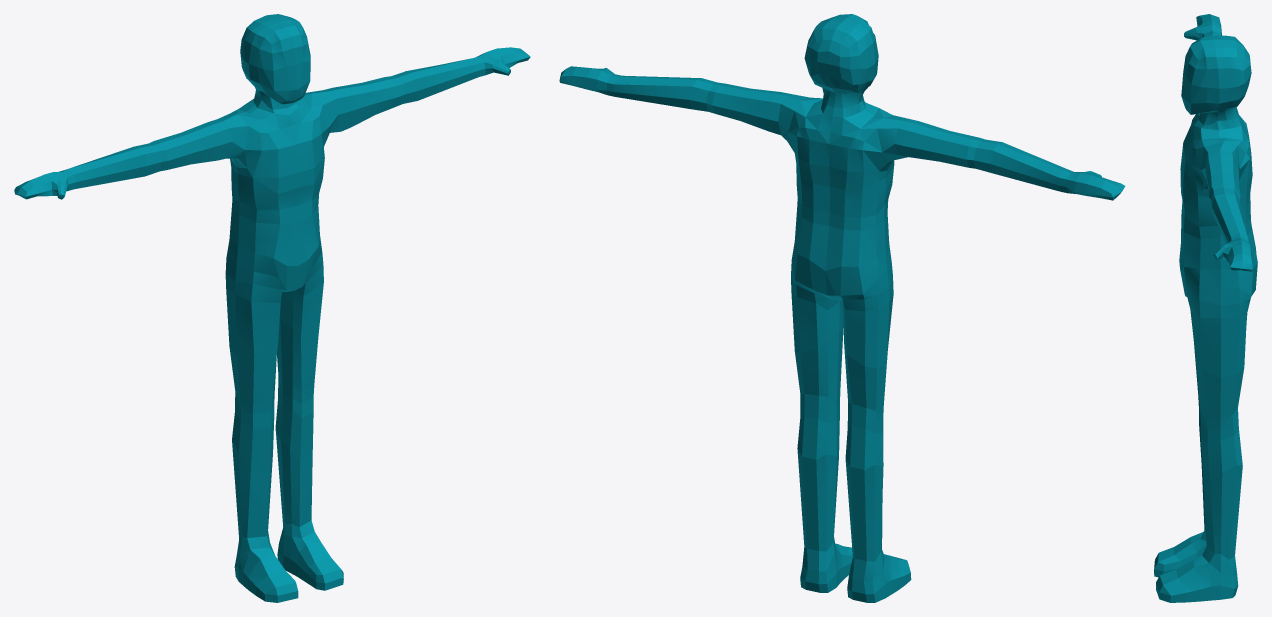
File: MainCharacter.fbx
The picture shows the model from 3 angles, left to right: view 1: azimuth 30°, elevation 25°; view 2: azimuth 150°, elevation 25°; view 3: azimuth 270°, elevation 25°; orthographic projection. The views are drawn at different scales.
Parts seen in each view (by area): view 1: Body; view 2: Body; view 3: Body.
Boxes of the visible parts, left/top/right/bottom form: Body: left=14, top=14, right=530, bottom=602; Body: left=559, top=14, right=1125, bottom=602; Body: left=1154, top=14, right=1257, bottom=602.
Size of the model in its own units: 1.81 by 1.81 by 0.3142.
